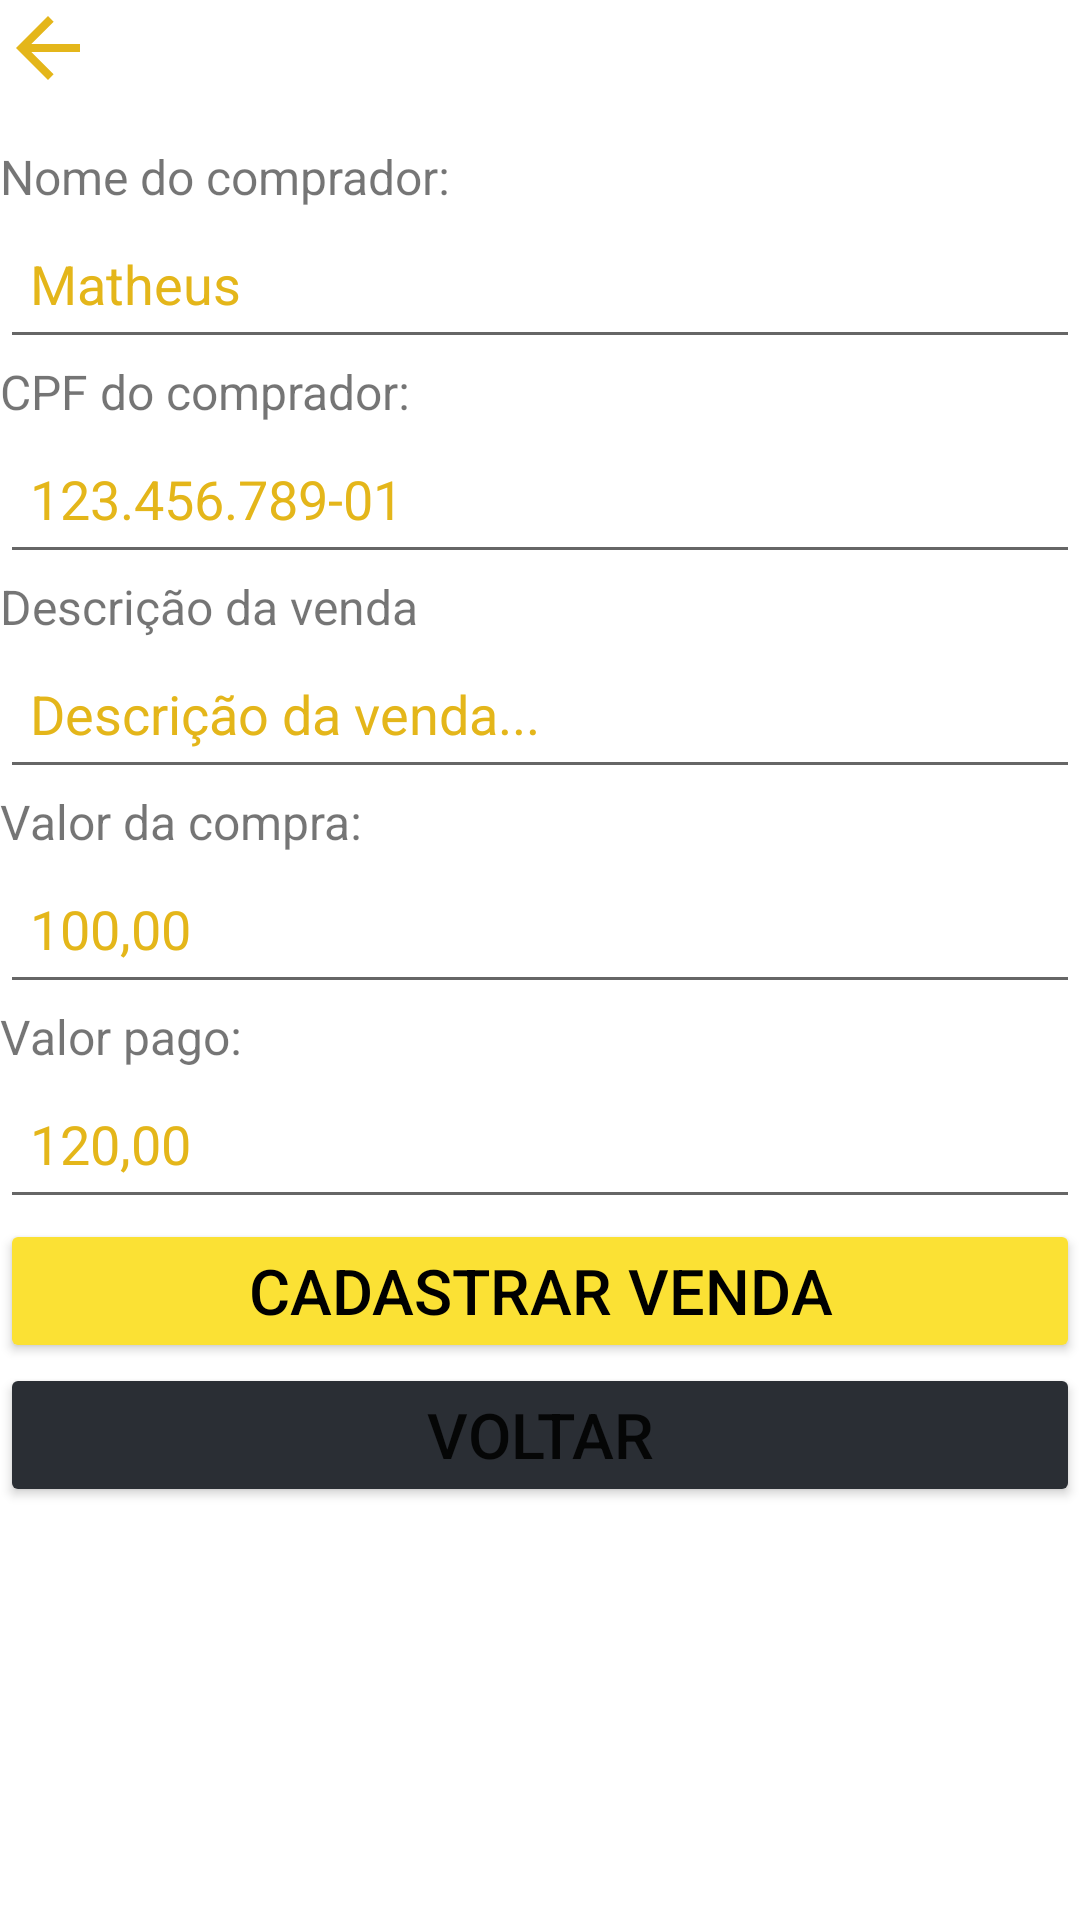

Where icons sit on this 1080 x 1920 app screen, as (x1, y1, x2, y2):
Return to Last Screen button: (16, 16, 80, 80)
